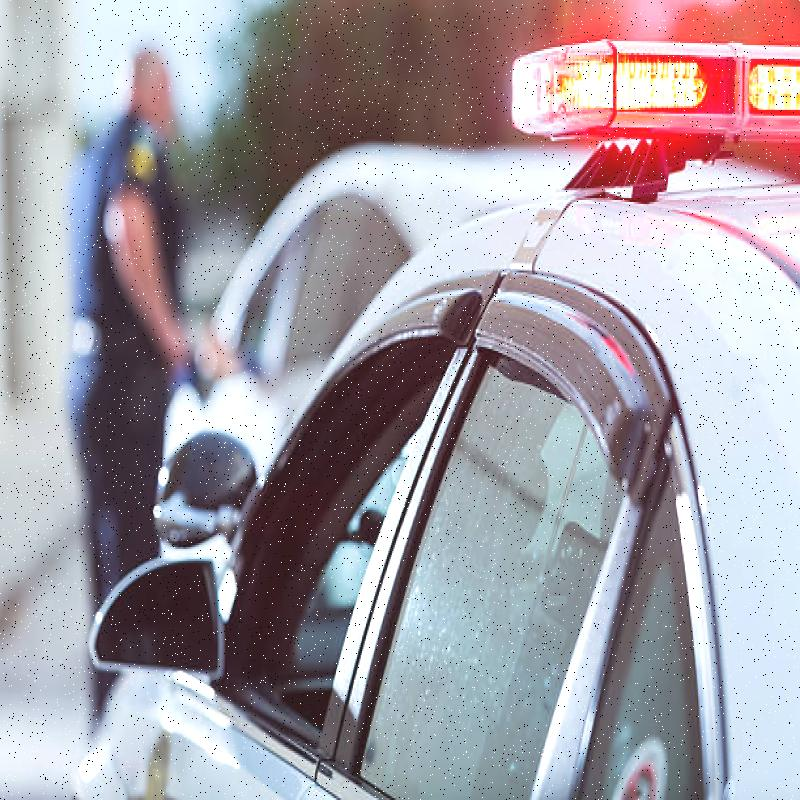AmbulanceSiren: (495, 0, 800, 196)
